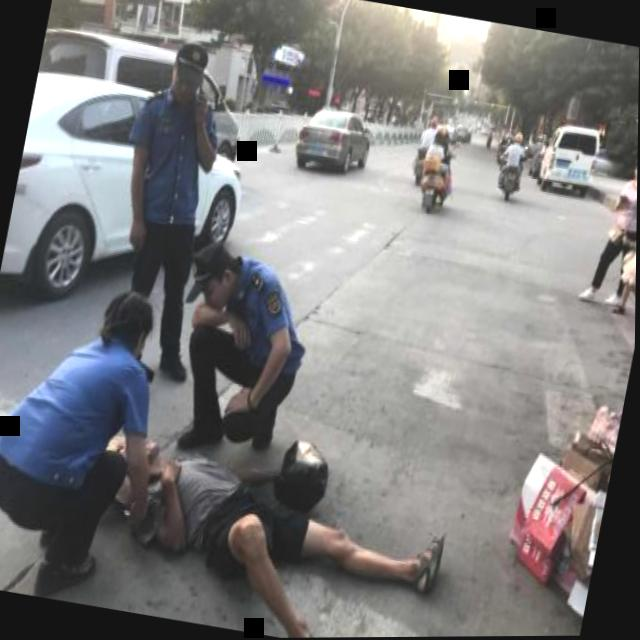Fall-Detected: (93, 403, 472, 639)
